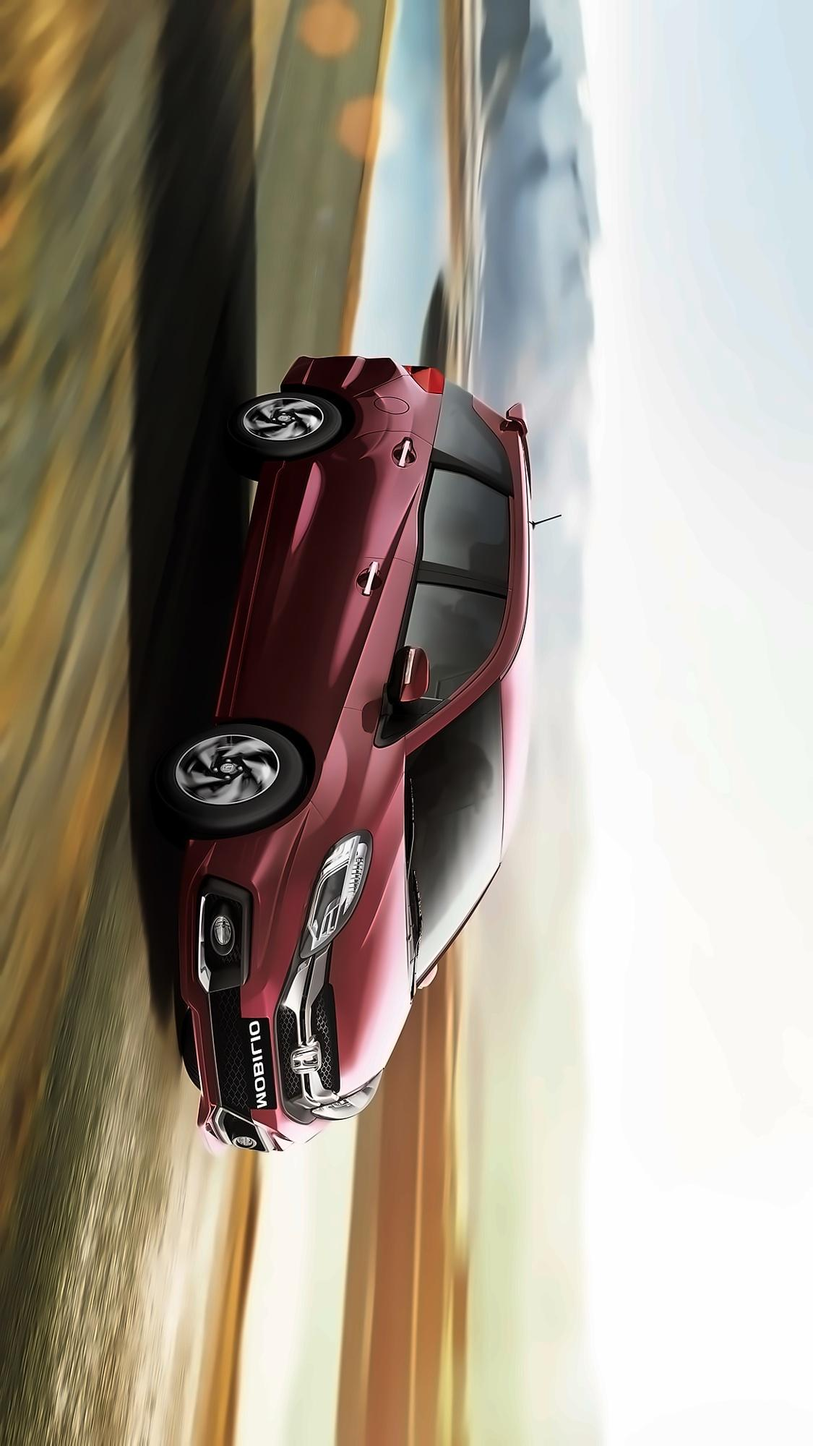Car hood: (324, 768, 422, 1104)
Driver-s door - -F-R-: (231, 553, 524, 707)
Fender - -F-R-: (224, 709, 412, 840)
Fender - -R-R-: (332, 373, 483, 446)
Front bumper: (163, 812, 320, 1172)
Headlight - -L-: (304, 1061, 397, 1129)
Headlight - -R-: (291, 823, 381, 971)
Passenger-s door - -R-R-: (253, 432, 537, 554)
Rear bumper: (268, 340, 411, 403)
Rear light - -R-: (390, 349, 455, 403)
Side bumper - -R-: (197, 445, 292, 733)
Side mirror - -R-: (384, 626, 438, 715)
